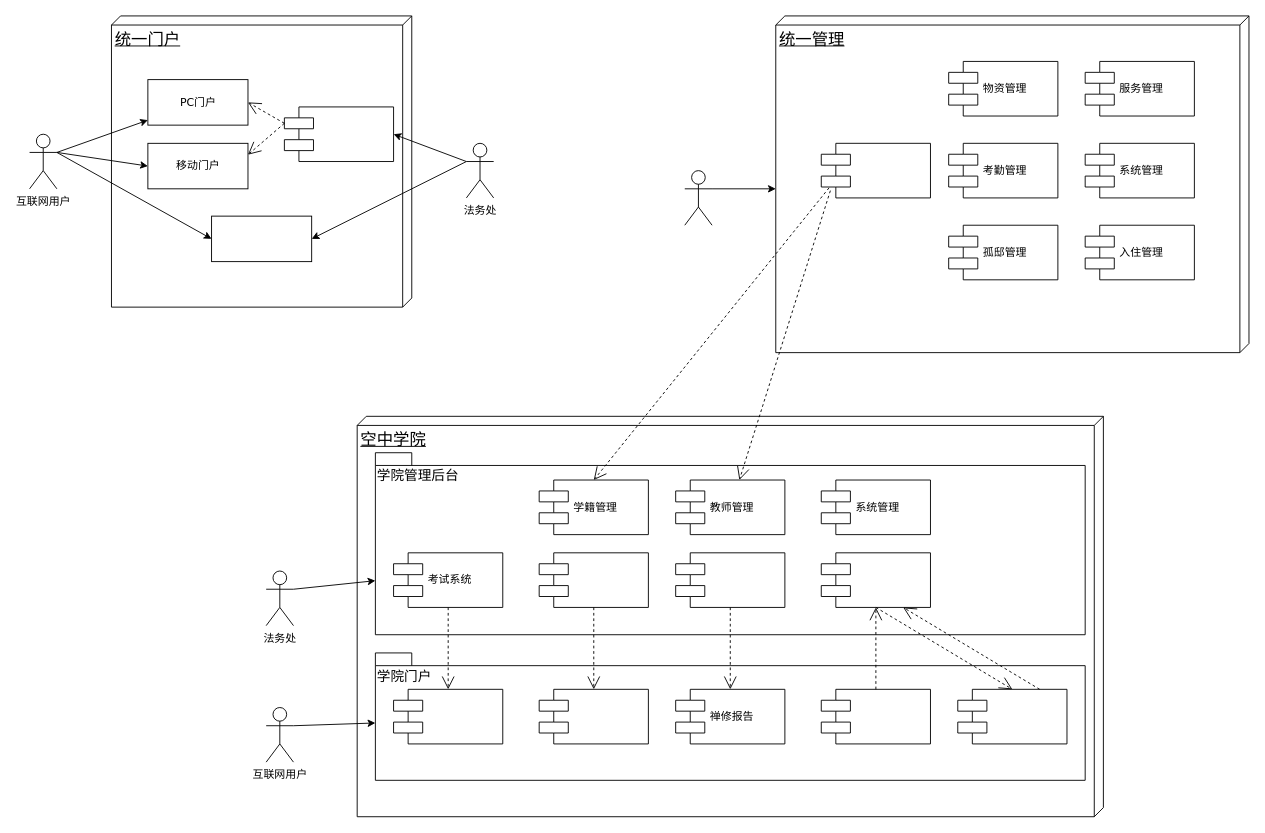
This 1265x833 diagram has some shape labels left out. Here are the shapes that lost their labels. From the top down, the centre of each, then its label:
At point (338, 134): "内容管理后台".
At point (875, 170): "档案管理".
At point (698, 197): "僧务处".
At point (261, 238): "各寺公众号*N".
At point (593, 579): "问答管理".
At point (730, 579): "禅修管理".
At point (875, 579): "课程资料".
At point (448, 716): "在线考试".
At point (593, 716): "在线问答".
At point (875, 716): "在线翻译".
At point (1012, 716): "图书馆".
